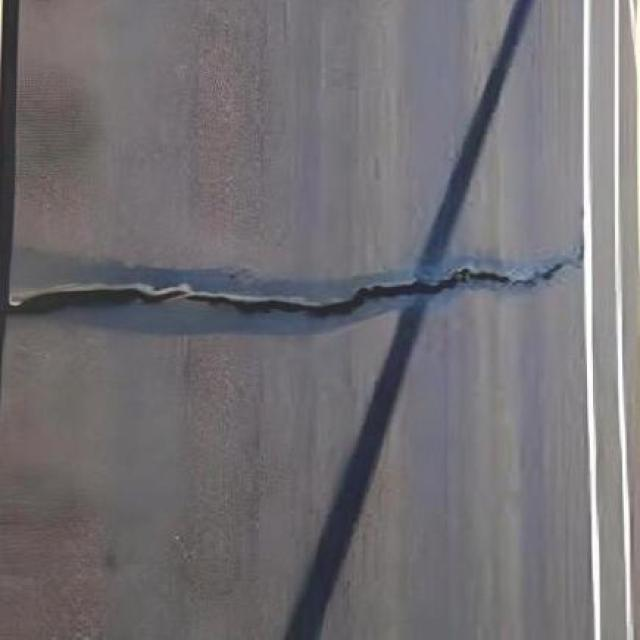minor crack: (283, 12, 355, 629), (0, 16, 62, 630)
moderate crack: (178, 20, 274, 636), (575, 22, 616, 640), (167, 521, 222, 580)
severe crack: (254, 285, 386, 316), (354, 273, 438, 300)
